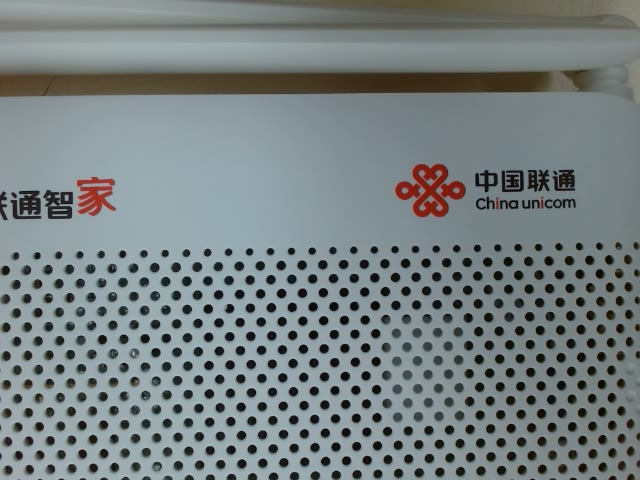AD_ChinaUnicom: (385, 153, 606, 226)
